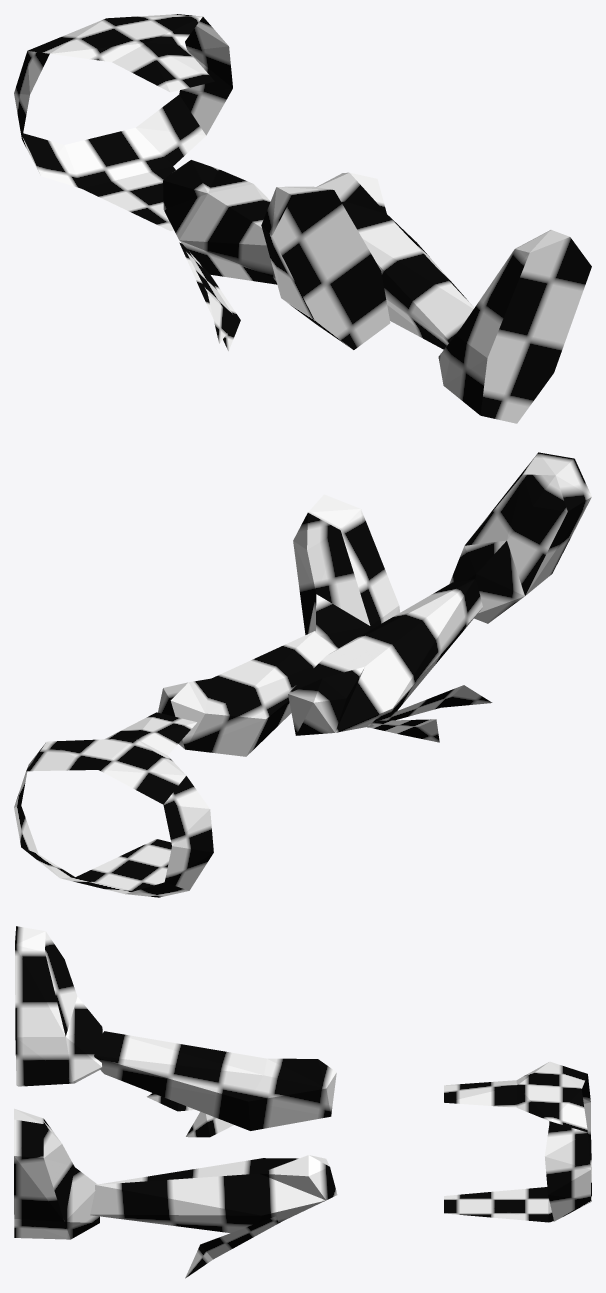
The model's file is initarlg5.dae.
3 views of the same model, one above another, from view 1: azimuth 30°, elevation 25°; view 2: azimuth 150°, elevation 25°; view 3: azimuth 270°, elevation 25° (orthographic). The views are drawn at different scales.
Visible parts, largest first — view 1: armor; view 2: armor; view 3: armor.
Part boxes in pixels (<box>): armor: <box>14,14,591,423</box>; armor: <box>14,452,591,897</box>; armor: <box>14,926,591,1278</box>.
Bounding box in the file's own units: 0.8186 × 1.62 × 0.7477.
1 material, 1 textured.
